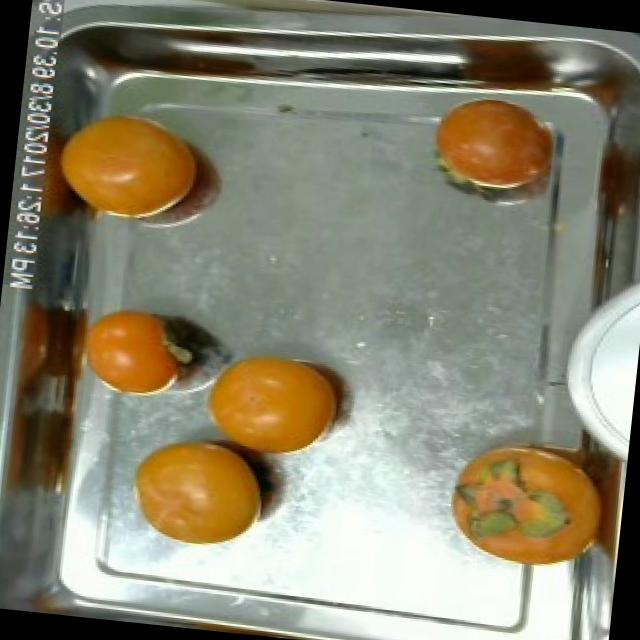Fruit: (426, 413, 629, 588), (46, 94, 218, 238), (187, 333, 362, 468), (117, 421, 283, 558), (412, 88, 568, 214), (72, 289, 212, 412), (0, 388, 99, 520)
